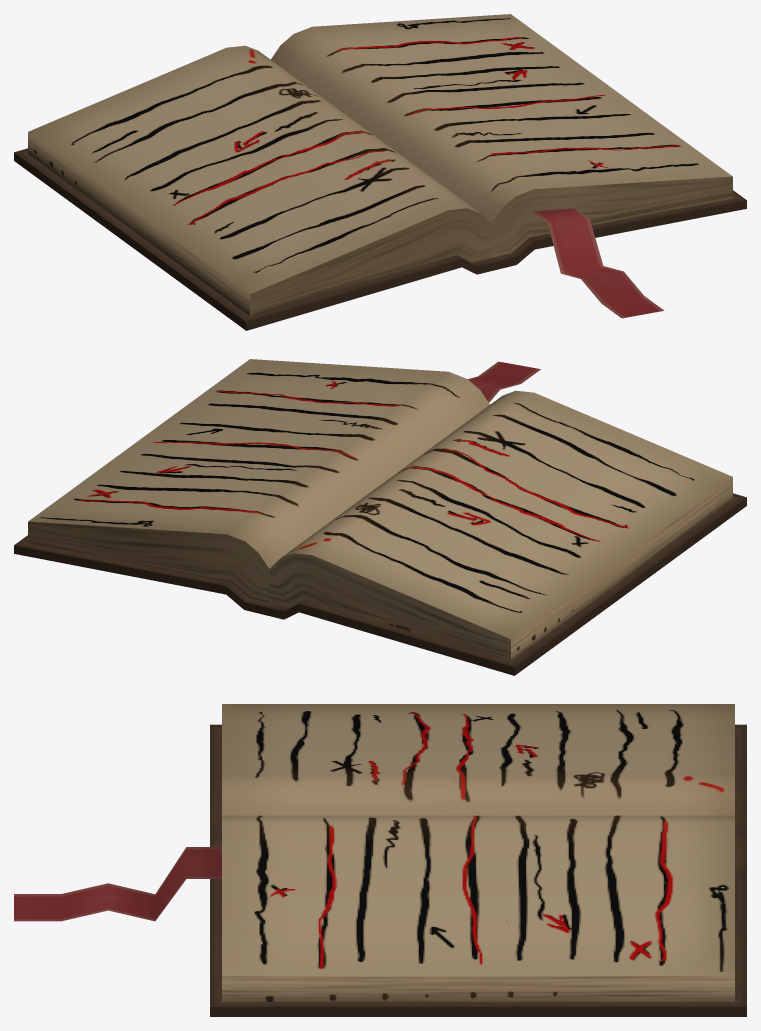
File: SM_Book_00b.fbx
3 renders of one model, top to bottom at view 1: azimuth 30°, elevation 25°; view 2: azimuth 150°, elevation 25°; view 3: azimuth 270°, elevation 25°, orthographic. The views are drawn at different scales.
Visible parts, largest first — view 1: Book02_low3; view 2: Book02_low3; view 3: Book02_low3.
Part boxes in pixels (bbox=[...]): Book02_low3: bbox=[14, 14, 746, 330]; Book02_low3: bbox=[14, 359, 746, 675]; Book02_low3: bbox=[14, 704, 746, 1016].
Bounding box in the file's own units: 78.24 × 9.92 × 85.86.
Materials: 1 (1 with a texture image).
